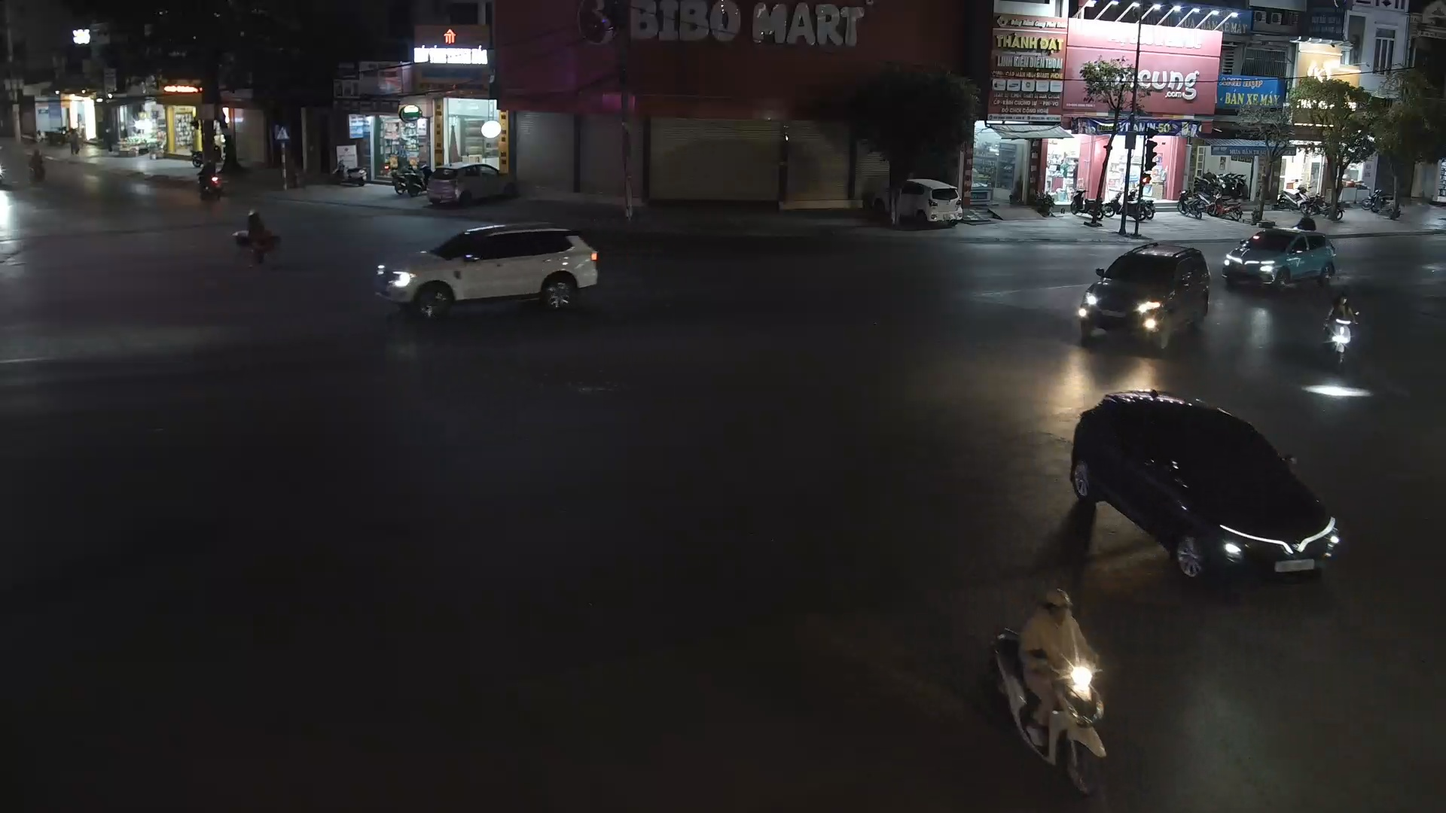car: (1067, 388, 1345, 585), (373, 219, 602, 322), (1076, 241, 1214, 349), (1221, 221, 1340, 295)
motorbike: (986, 584, 1112, 805), (1321, 285, 1366, 369)
